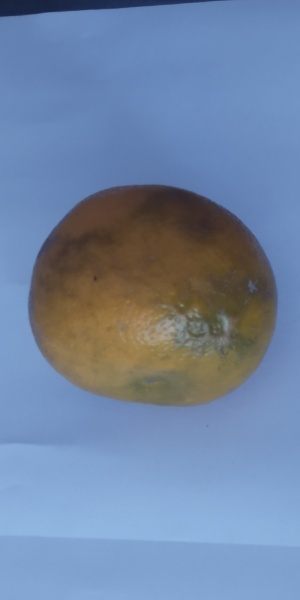BAD: (24, 186, 277, 414)
